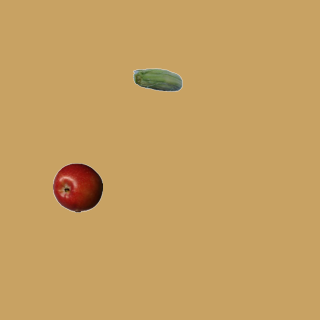Apple Braeburn: (52, 162, 102, 212)
Corn Husk: (132, 56, 182, 106)
